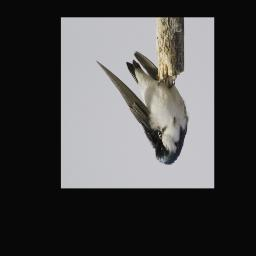Swallow: (96, 50, 190, 167)
